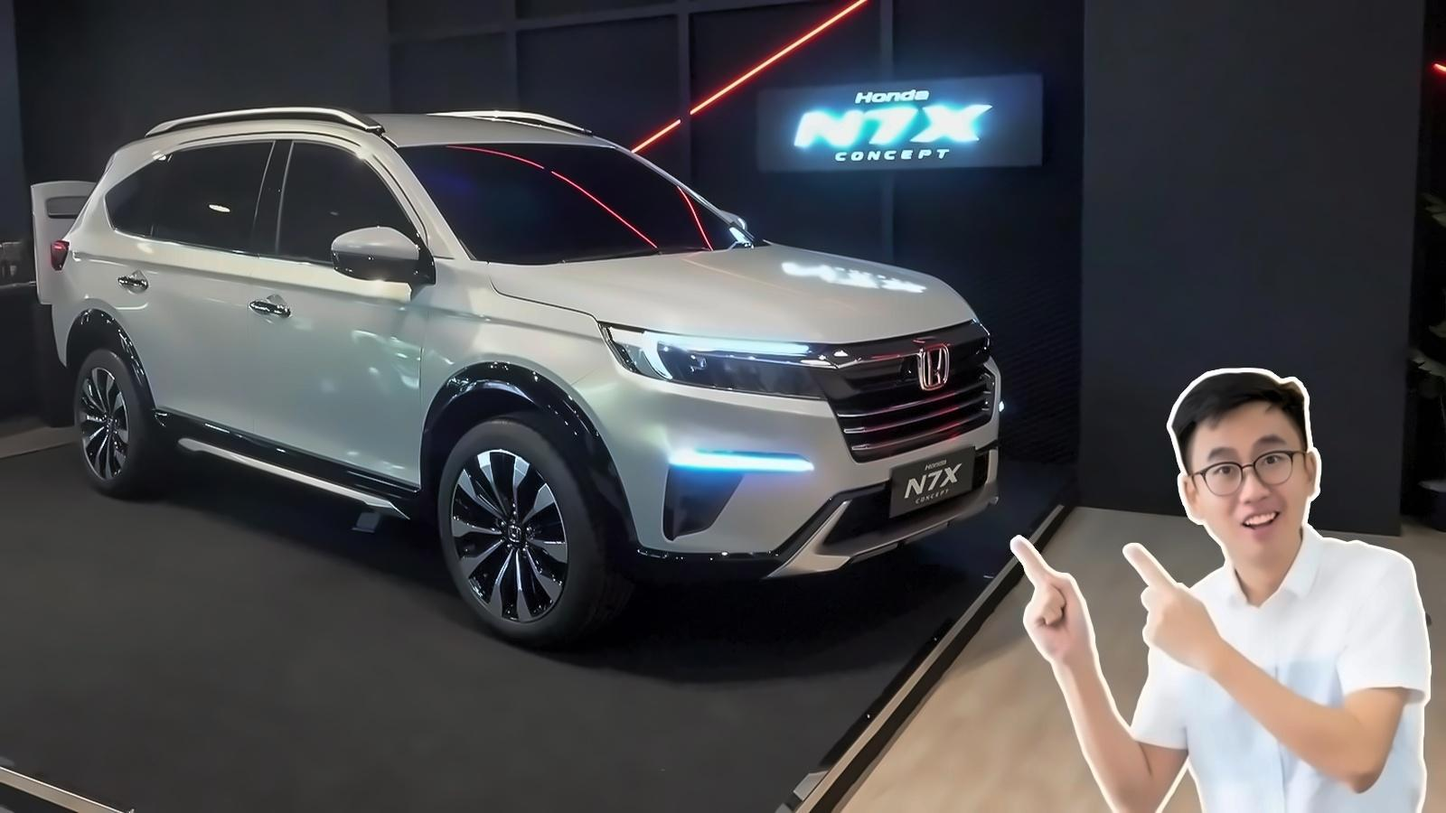Car hood: (485, 243, 985, 349)
Driver-s door - -F-R-: (249, 125, 418, 493)
Fender - -F-R-: (419, 254, 614, 514)
Fender - -R-R-: (59, 240, 120, 352)
Front bumper: (579, 381, 1018, 589)
Headlight - -R-: (589, 315, 837, 411)
Passenger-s door - -R-R-: (115, 128, 250, 442)
Rear bumper: (47, 289, 83, 396)
Rear light - -R-: (44, 232, 80, 279)
Side bumper - -R-: (133, 398, 431, 524)
Side mirror - -L-: (696, 196, 759, 237)
Side mirror - -R-: (324, 215, 436, 300)
